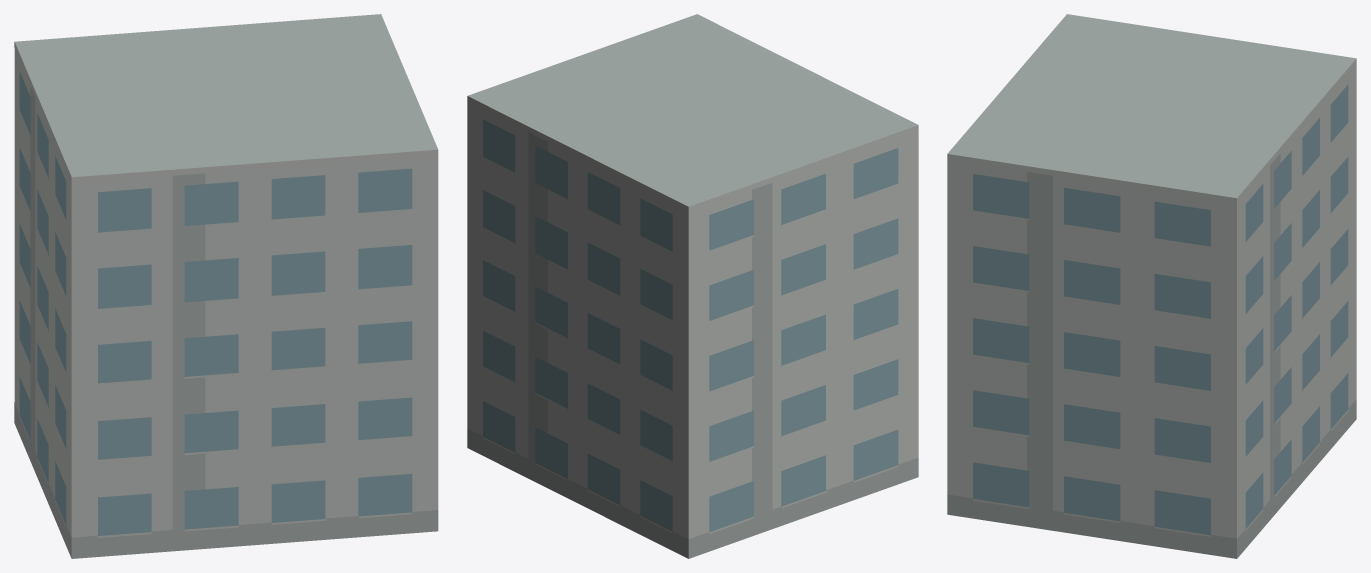
File: residential-049b625c-9553-44a3-96e0-9ddefc953544.glb
The picture shows the model from 3 angles, left to right: view 1: azimuth 30°, elevation 25°; view 2: azimuth 150°, elevation 25°; view 3: azimuth 270°, elevation 25°; orthographic projection. The views are drawn at different scales.
Parts seen in each view (by area): view 1: residential-049b625c-9553-44a3-96e0-9ddefc953544.tmp; view 2: residential-049b625c-9553-44a3-96e0-9ddefc953544.tmp; view 3: residential-049b625c-9553-44a3-96e0-9ddefc953544.tmp.
Boxes of the visible parts, box(x1,y1,x2,y2) form: residential-049b625c-9553-44a3-96e0-9ddefc953544.tmp: box(14, 14, 438, 558); residential-049b625c-9553-44a3-96e0-9ddefc953544.tmp: box(467, 14, 918, 558); residential-049b625c-9553-44a3-96e0-9ddefc953544.tmp: box(947, 14, 1356, 558).
Size of the model in its own units: 16.71 by 15.25 by 15.7.
